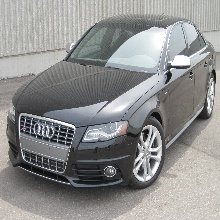no damage: (5, 13, 217, 192)
